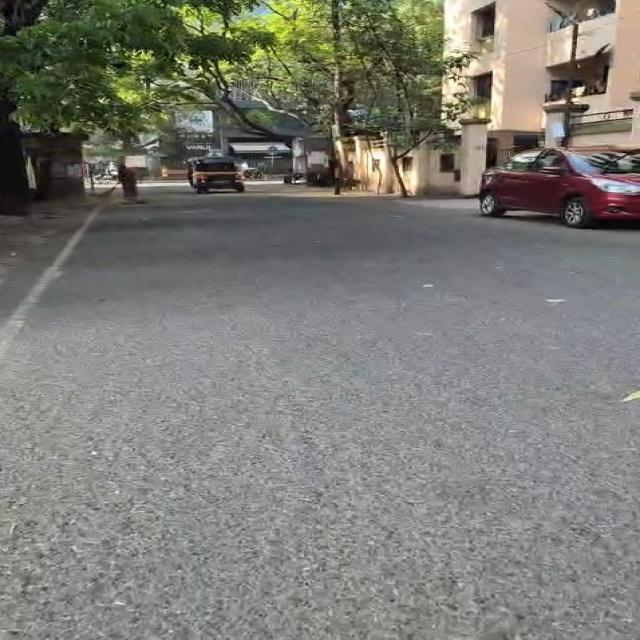obstacle: (0, 0, 253, 213), (215, 0, 472, 195), (346, 0, 473, 197), (547, 3, 579, 146), (0, 92, 30, 216), (562, 17, 579, 146), (331, 0, 342, 195), (389, 153, 411, 198)
person: (118, 162, 139, 203)
vehical: (480, 149, 639, 228), (188, 156, 245, 193)
